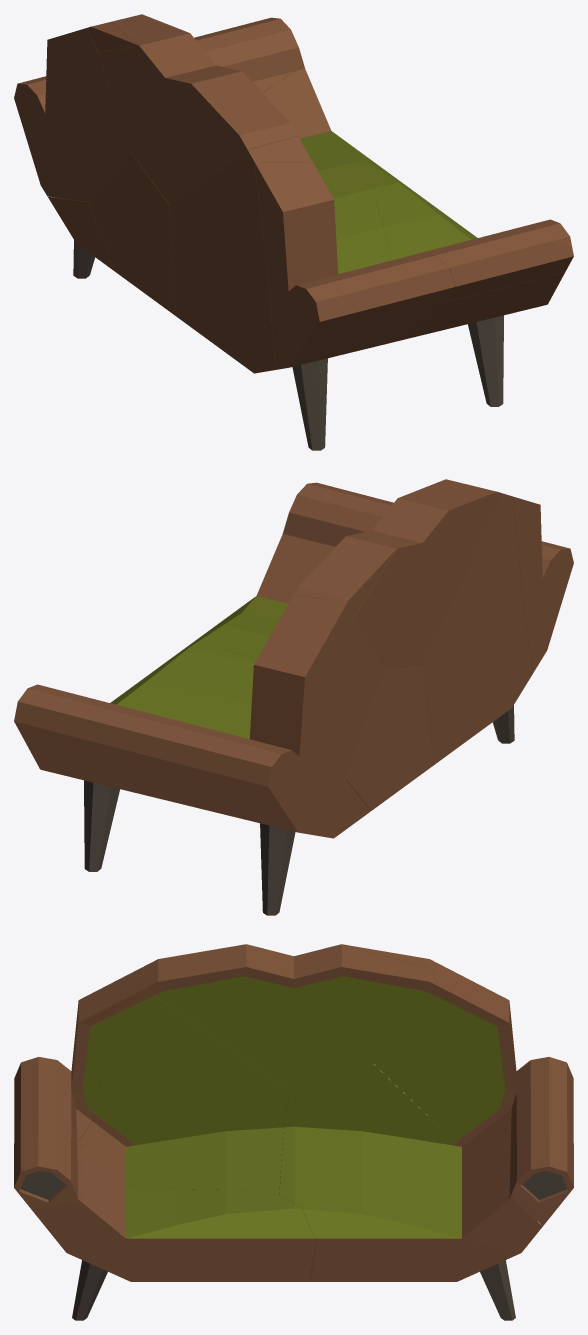
File: couch-parts.fbx
3 views of the same model, one above another, from view 1: azimuth 30°, elevation 25°; view 2: azimuth 150°, elevation 25°; view 3: azimuth 270°, elevation 25° (orthographic). The views are drawn at different scales.
Parts seen in each view (by area): view 1: couch_cell.006, couch_cell.008, couch_cell.001, couch_cell.004, couch_cell.002, couch_cell.009, couch_cell.003, couch-leg1, couch-leg2, couch_cell.005, couch_cell, couch-leg4; view 2: couch_cell.004, couch_cell.001, couch_cell.002, couch_cell.008, couch_cell.006, couch_cell.009, couch_cell.003, couch-leg3, couch-leg4, couch_cell.005, couch_cell, couch-leg2; view 3: couch_cell.002, couch_cell.008, couch_cell.001, couch_cell.004, couch_cell.009, couch_cell.006, couch_cell.003, couch-leg1, couch-leg3, couch_cell.
Boxes of the visible parts, bbox=[...] form: couch_cell.006: bbox=[255, 162, 455, 369]; couch_cell.008: bbox=[168, 136, 391, 373]; couch_cell.001: bbox=[98, 14, 297, 203]; couch_cell.004: bbox=[14, 17, 303, 201]; couch_cell.002: bbox=[89, 65, 410, 315]; couch_cell.009: bbox=[375, 180, 565, 337]; couch_cell.003: bbox=[420, 219, 573, 302]; couch-leg1: bbox=[468, 315, 503, 406]; couch-leg2: bbox=[292, 358, 327, 450]; couch_cell.005: bbox=[48, 197, 113, 269]; couch_cell: bbox=[87, 22, 139, 51]; couch-leg4: bbox=[73, 240, 94, 278]; couch_cell.004: bbox=[14, 595, 385, 833]; couch_cell.001: bbox=[293, 479, 504, 669]; couch_cell.002: bbox=[30, 650, 433, 810]; couch_cell.008: bbox=[229, 494, 532, 764]; couch_cell.006: bbox=[512, 496, 573, 672]; couch_cell.009: bbox=[154, 541, 329, 670]; couch_cell.003: bbox=[280, 483, 393, 552]; couch-leg3: bbox=[84, 780, 119, 871]; couch-leg4: bbox=[260, 823, 295, 915]; couch_cell.005: bbox=[305, 779, 370, 838]; couch_cell: bbox=[327, 548, 396, 614]; couch-leg2: bbox=[493, 705, 514, 743]; couch_cell.002: bbox=[279, 1064, 542, 1281]; couch_cell.008: bbox=[79, 967, 289, 1195]; couch_cell.001: bbox=[143, 944, 436, 1090]; couch_cell.004: bbox=[373, 963, 573, 1225]; couch_cell.009: bbox=[31, 1145, 316, 1281]; couch_cell.006: bbox=[14, 974, 129, 1141]; couch_cell.003: bbox=[14, 1112, 83, 1208]; couch-leg1: bbox=[72, 1260, 107, 1320]; couch-leg3: bbox=[480, 1260, 515, 1320]; couch_cell: bbox=[342, 944, 436, 969].
Bounding box in the file's own units: 3.55 × 4.01 × 7.3.
